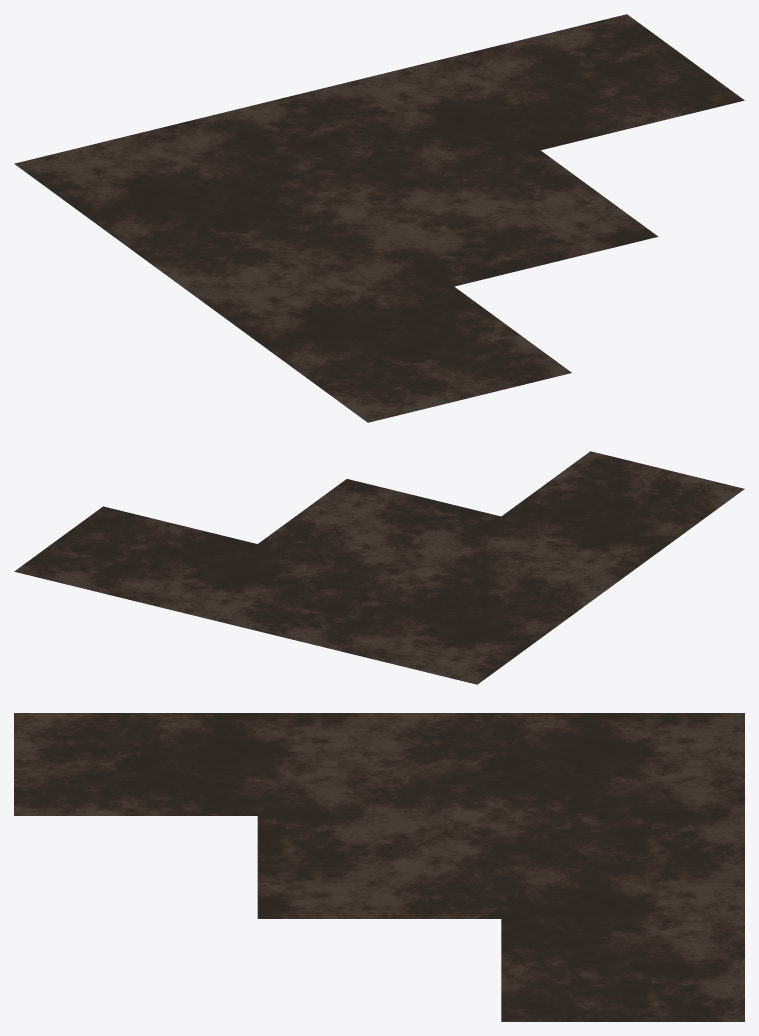
The model's file is floor_3_-7.glb.
3 renders of one model, top to bottom at view 1: azimuth 30°, elevation 25°; view 2: azimuth 150°, elevation 25°; view 3: azimuth 270°, elevation 25°, orthographic. The views are drawn at different scales.
Parts seen in each view (by area): view 1: floor_3_-7; view 2: floor_3_-7; view 3: floor_3_-7.
Boxes of the visible parts, x1,y1,x2,y2 form: floor_3_-7: [14, 14, 744, 422]; floor_3_-7: [14, 451, 744, 684]; floor_3_-7: [14, 713, 744, 1021].
Bounding box in the file's own units: 12 × 0 × 12.
1 material, 1 textured.
